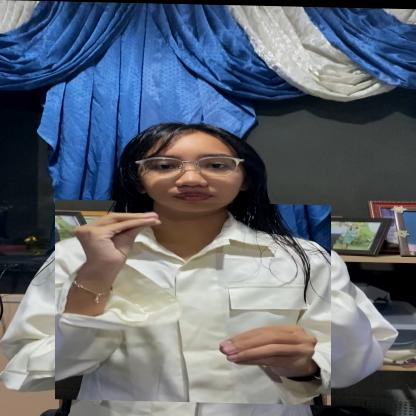Fix: (55, 199, 331, 404)
